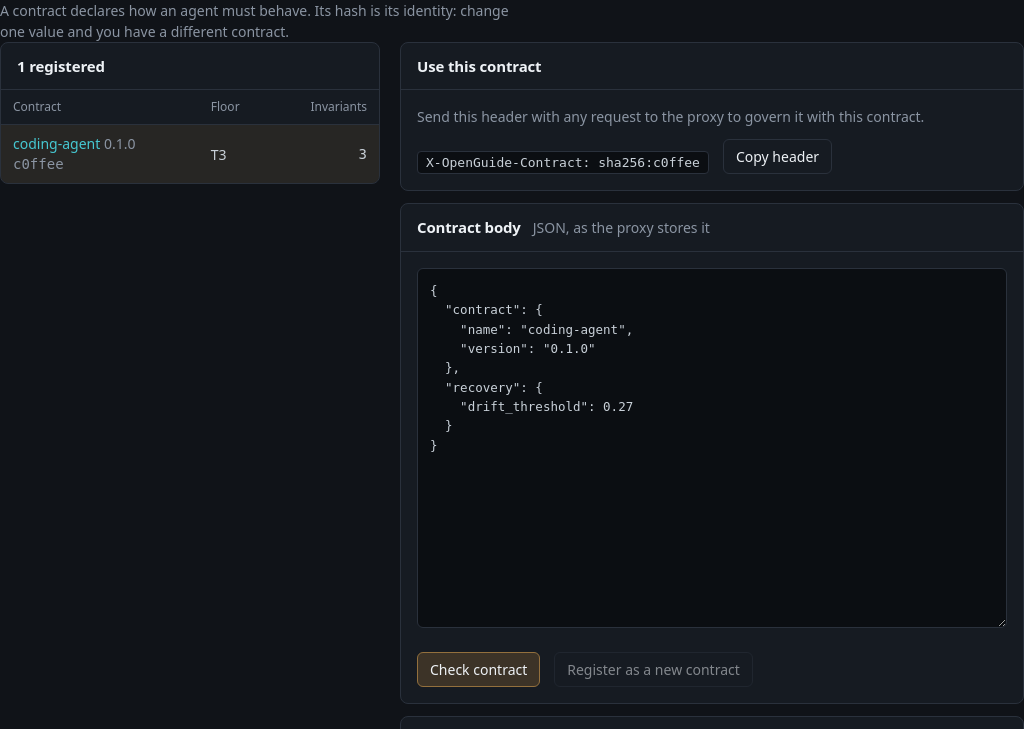
Test: Contracts › a server rejection is shown and nothing is registered
Expected: the text box named "Contract JSON" is shown, [417,268,1007,628]
Click the button "Check contract" at (479, 669), box [417,652,540,687]
(page scrolled)
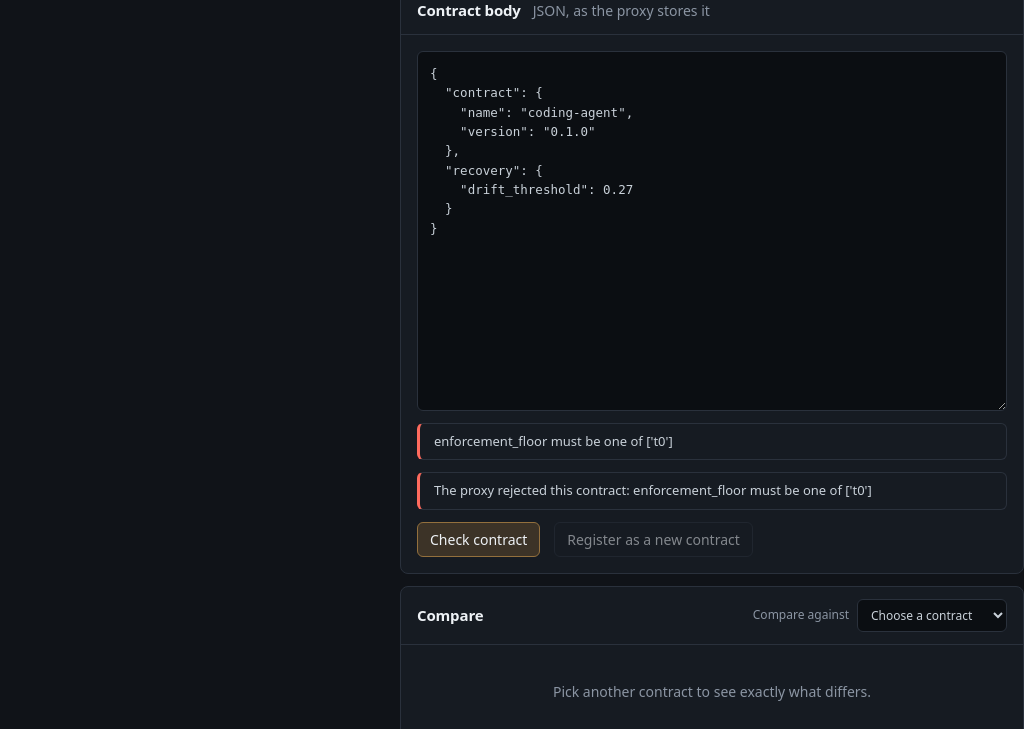
Expected: the button "Register as a new contract" is disabled, [554,522,753,557]
Expected: the text "The proxy rejected this contract: enforcement_floor" is shown, [417,472,1007,510]
